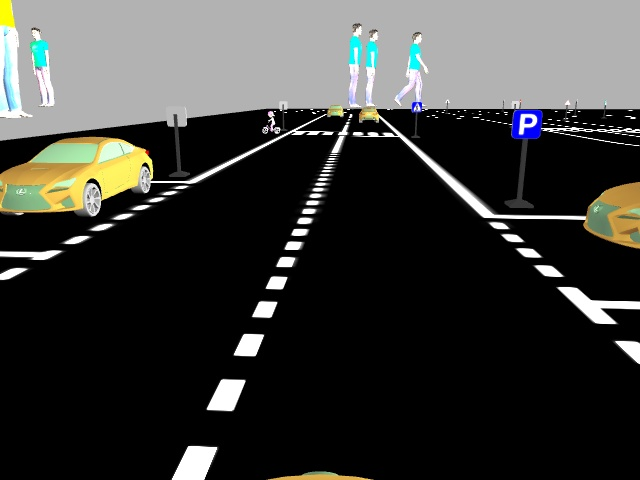Parking: (508, 106, 544, 139)
